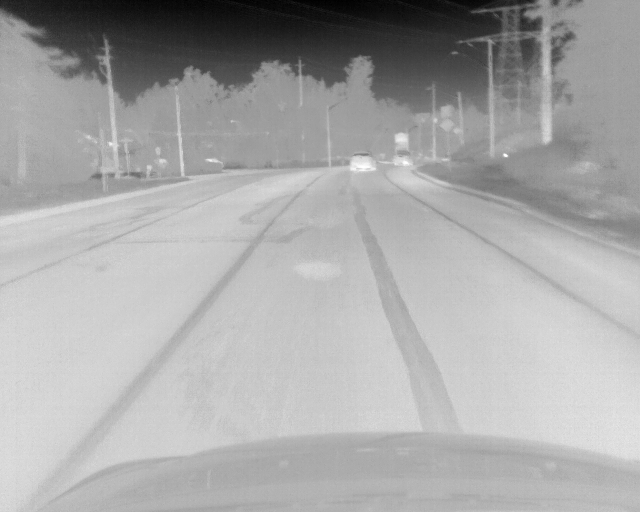car: (347, 152, 377, 172), (392, 152, 413, 166)
